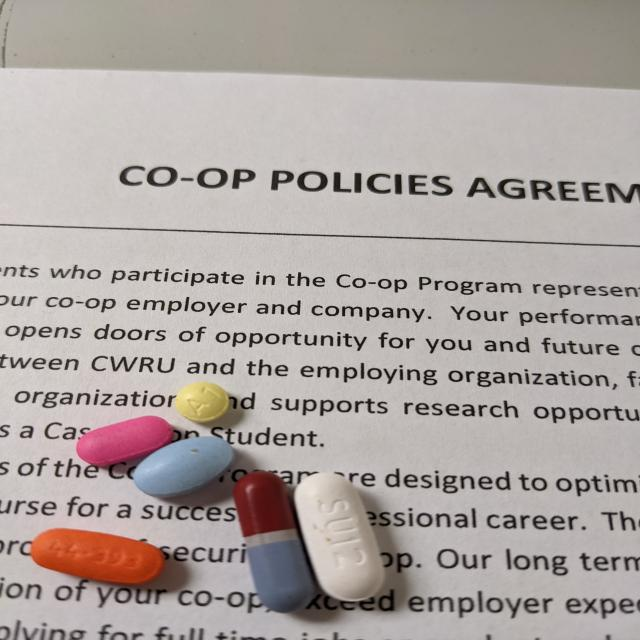non-organic waste: (291, 471, 388, 604), (232, 470, 316, 614), (29, 527, 166, 586), (132, 435, 236, 498), (75, 414, 174, 467), (175, 381, 230, 424)
